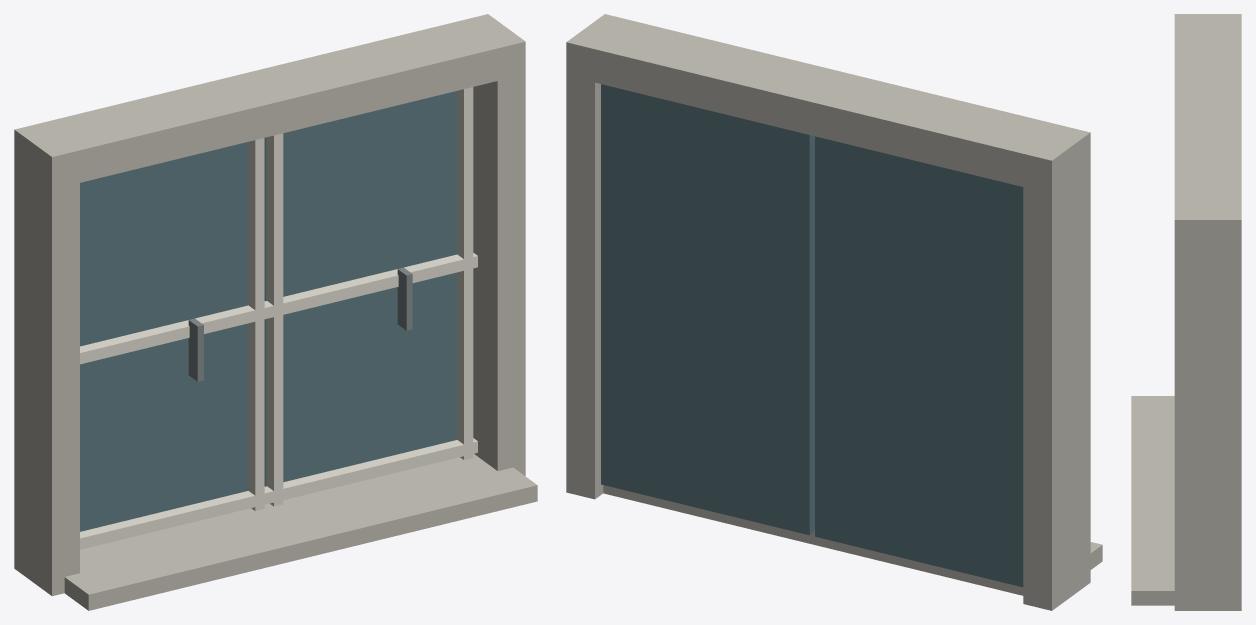
3 views of the same model, side by side, from view 1: azimuth 30°, elevation 25°; view 2: azimuth 150°, elevation 25°; view 3: azimuth 270°, elevation 25° (orthographic). The views are drawn at different scales.
Visible parts, largest first — view 1: QH-A0037_V02_geometry; view 2: QH-A0037_V02_geometry; view 3: QH-A0037_V02_geometry.
Boxes of the visible parts, <box> form: QH-A0037_V02_geometry: <box>14,14,537,610</box>; QH-A0037_V02_geometry: <box>566,14,1102,610</box>; QH-A0037_V02_geometry: <box>1131,14,1241,610</box>.
Bounding box in the file's own units: 3.05 × 2.7 × 0.69.
